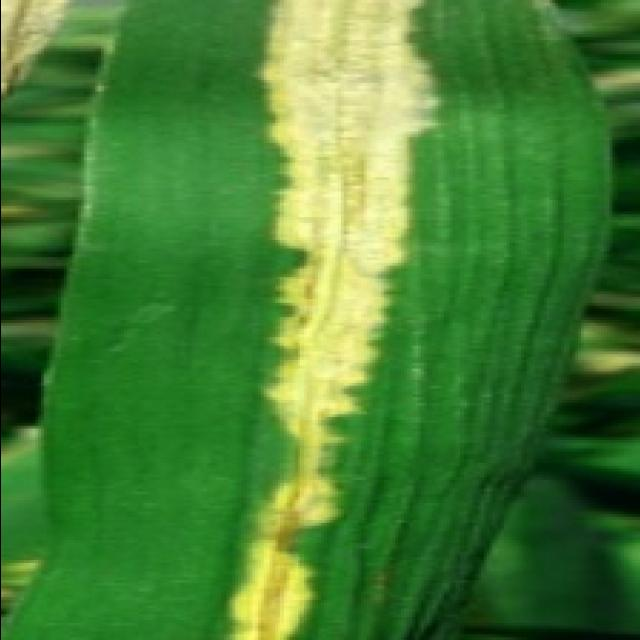Unhealthy: (223, 0, 438, 640)
